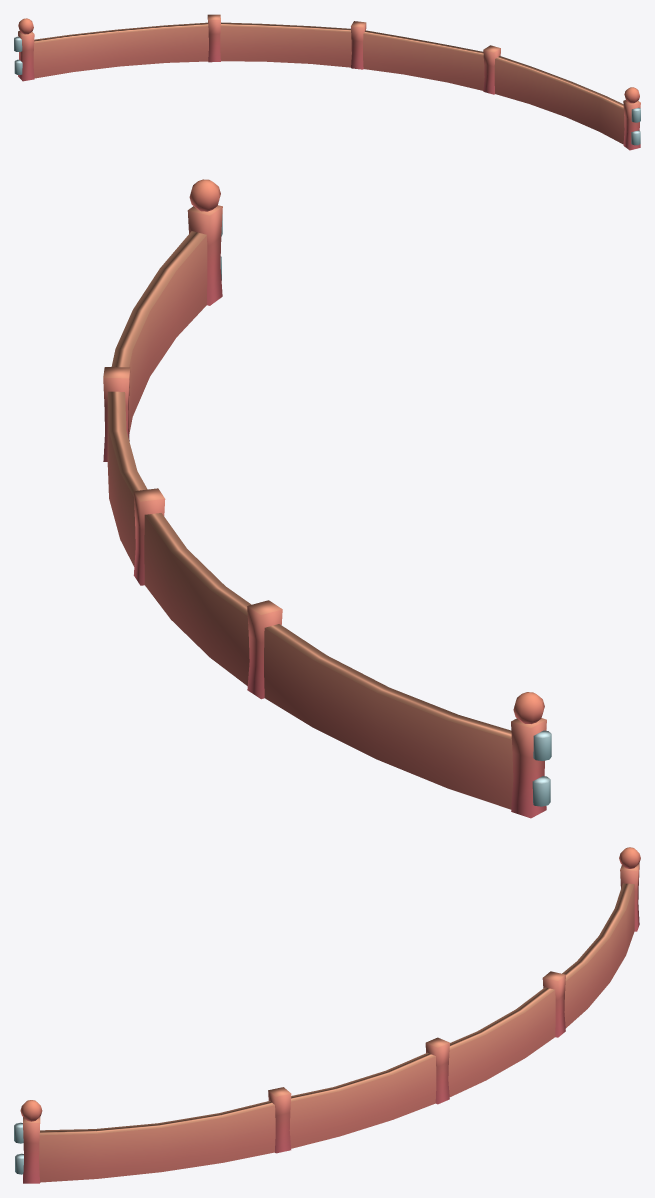
File: SM_Fences_01.fbx
The picture shows the model from 3 angles, top to bottom: view 1: azimuth 30°, elevation 25°; view 2: azimuth 150°, elevation 25°; view 3: azimuth 270°, elevation 25°; orthographic projection. The views are drawn at different scales.
Parts seen in each view (by area): view 1: SM_Fences_01; view 2: SM_Fences_01; view 3: SM_Fences_01.
Part boxes in pixels (x1,y1,x2,y2): SM_Fences_01: (14, 14, 640, 150); SM_Fences_01: (103, 179, 551, 818); SM_Fences_01: (14, 847, 640, 1183).
Bounding box in the file's own units: 1171 × 164 × 1173.
Materials: 1 (1 with a texture image).
